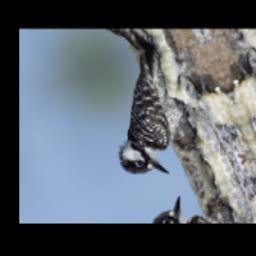Woodpecker: (80, 40, 232, 193)
